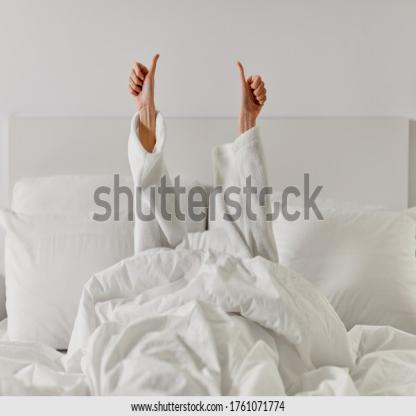Thumbs up: (217, 46, 269, 118), (120, 24, 163, 111)
